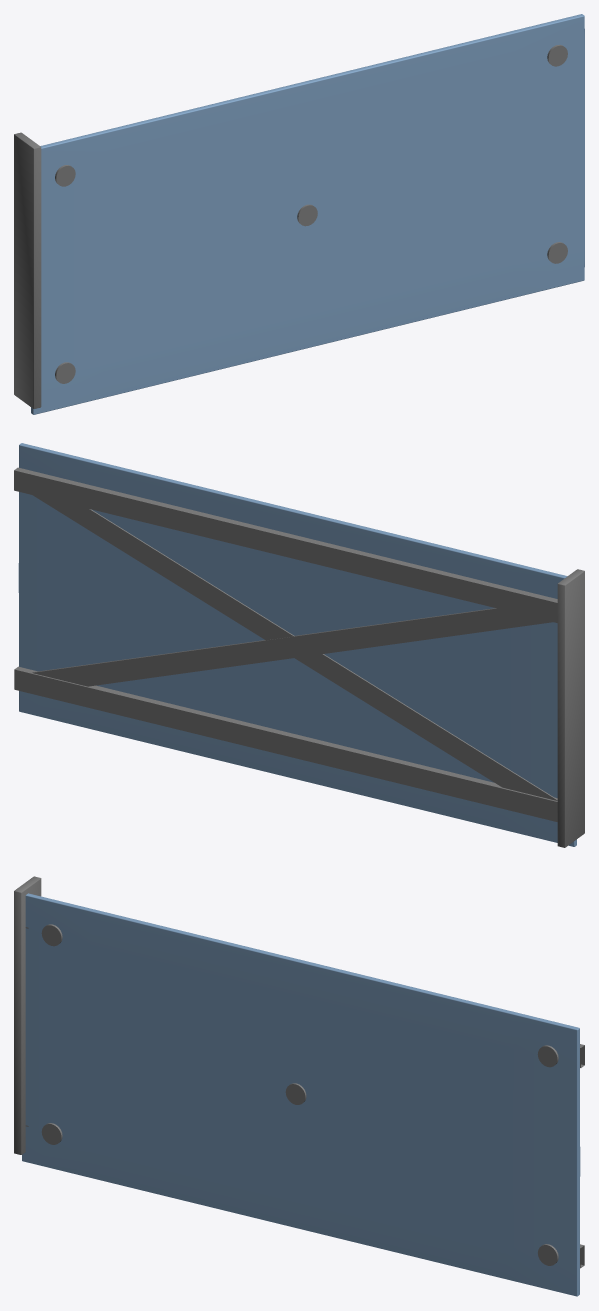
Rendered from SM_Fence.FBX.
3 views of the same model, one above another, from view 1: azimuth 30°, elevation 25°; view 2: azimuth 150°, elevation 25°; view 3: azimuth 330°, elevation 25° (orthographic).
Parts seen in each view (by area): view 1: SM_Fence_LOD0; view 2: SM_Fence_LOD0; view 3: SM_Fence_LOD0.
Boxes of the visible parts, x1=… form: SM_Fence_LOD0: x1=14, y1=14, x2=584, y2=414; SM_Fence_LOD0: x1=14, y1=443, x2=584, y2=847; SM_Fence_LOD0: x1=14, y1=876, x2=584, y2=1296.
Size of what is drawn, in the model's own units: 200 by 93.23 by 12.59.
